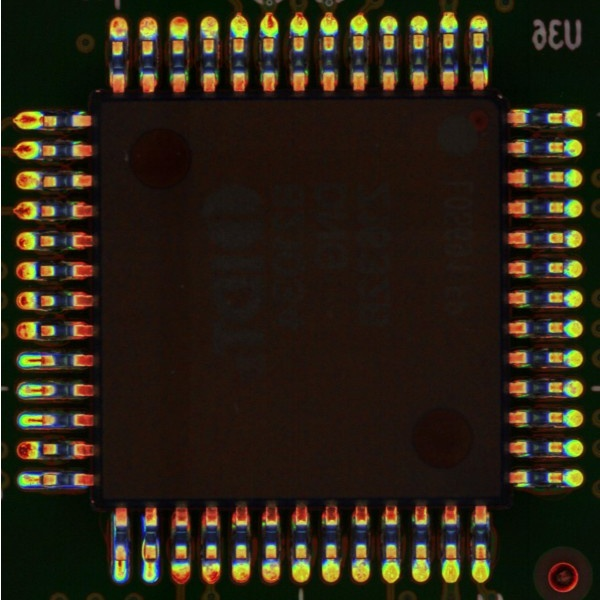Bad_podu: (27, 355, 50, 364), (28, 416, 52, 424), (29, 386, 52, 394), (29, 476, 51, 483), (115, 553, 124, 568), (146, 557, 155, 571)
Bad_qiaojiao: (142, 536, 146, 560), (156, 536, 160, 559)
